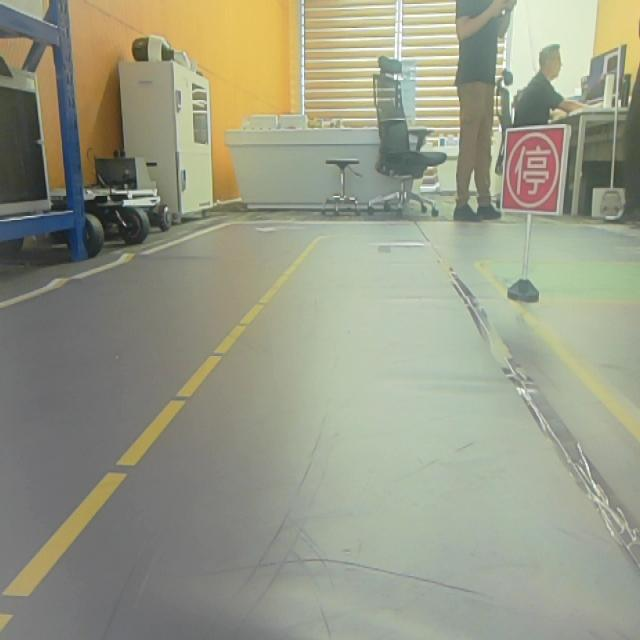left_lane: (1, 237, 321, 631)
right_lane: (481, 270, 640, 444)
